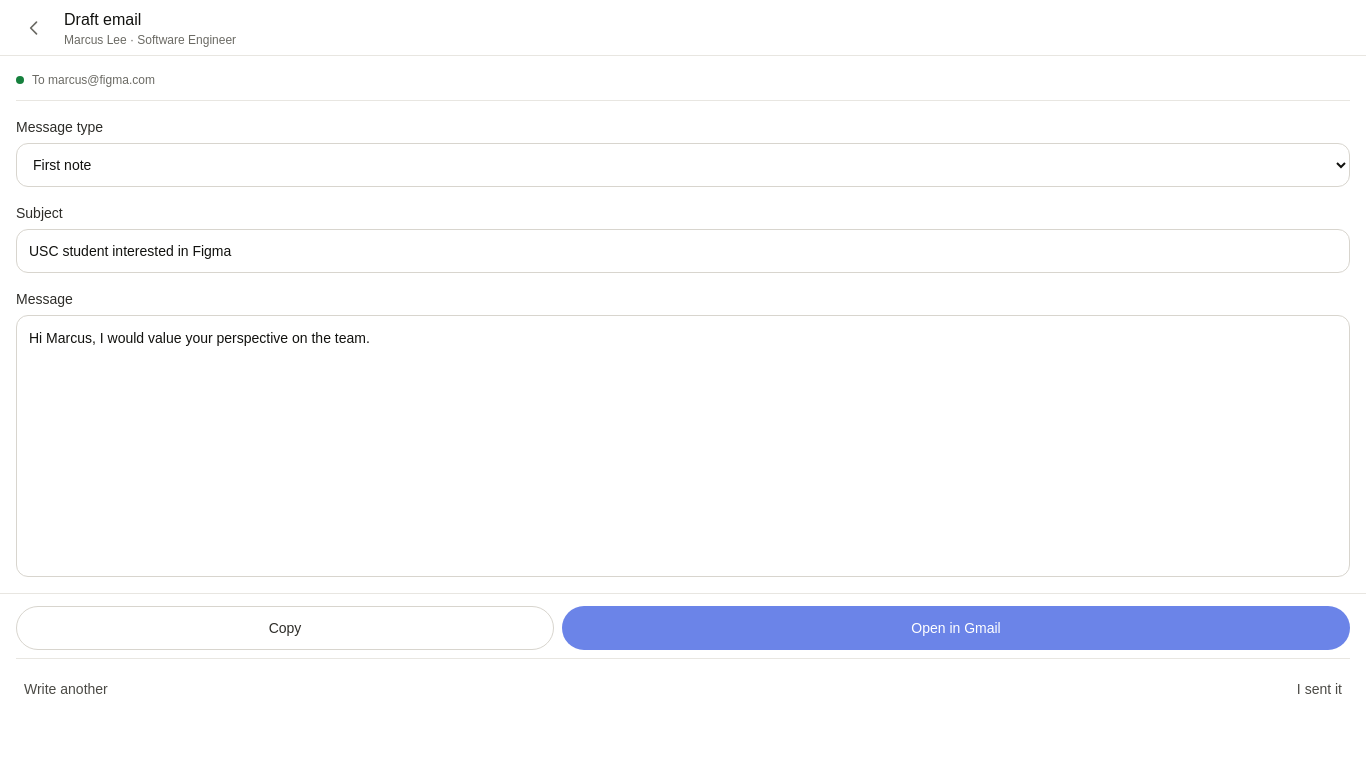
redesigned popup workflows › logs the reviewed email as sent with the final edited content
What coordinates should you click on to do the following:
click the button "I sent it"
I would click on:
 (1319, 689)
Its box is [1289,667,1350,711].
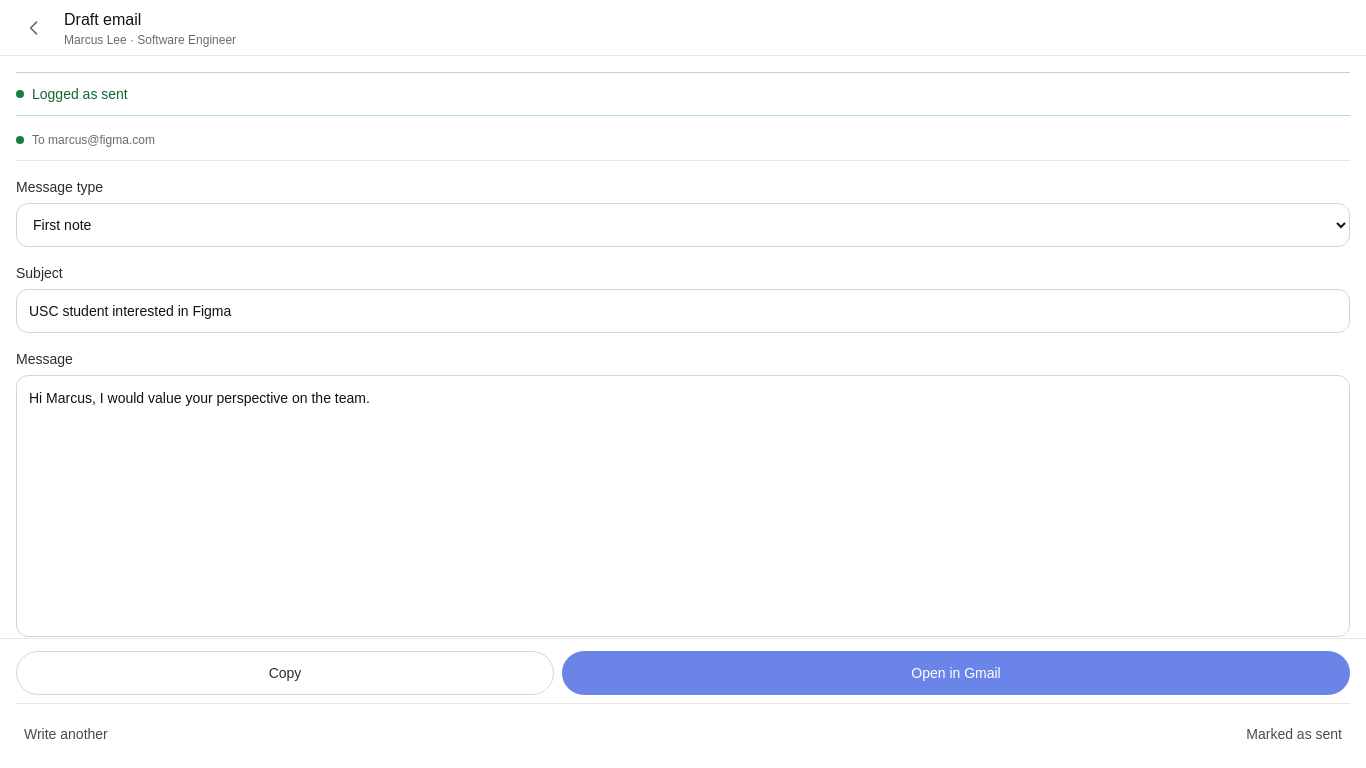
Result: the text "Logged as sent" is shown at [16,72,1350,116]
